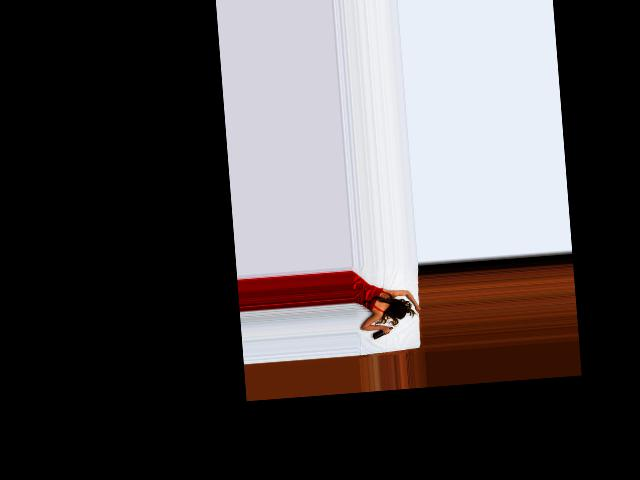beer: (371, 326, 393, 340)
